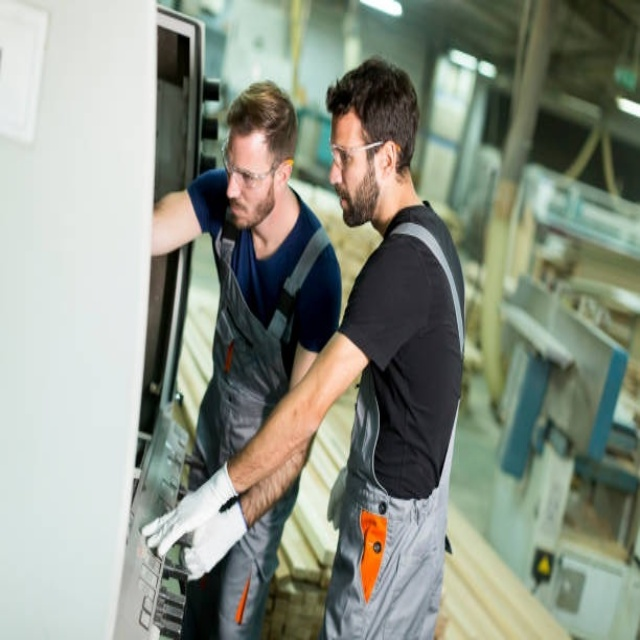Gafas: (221, 143, 289, 188), (330, 139, 395, 170)
Guantes: (140, 456, 241, 560), (181, 494, 255, 585)
Sin_mascara: (330, 180, 361, 226), (228, 195, 255, 231)
